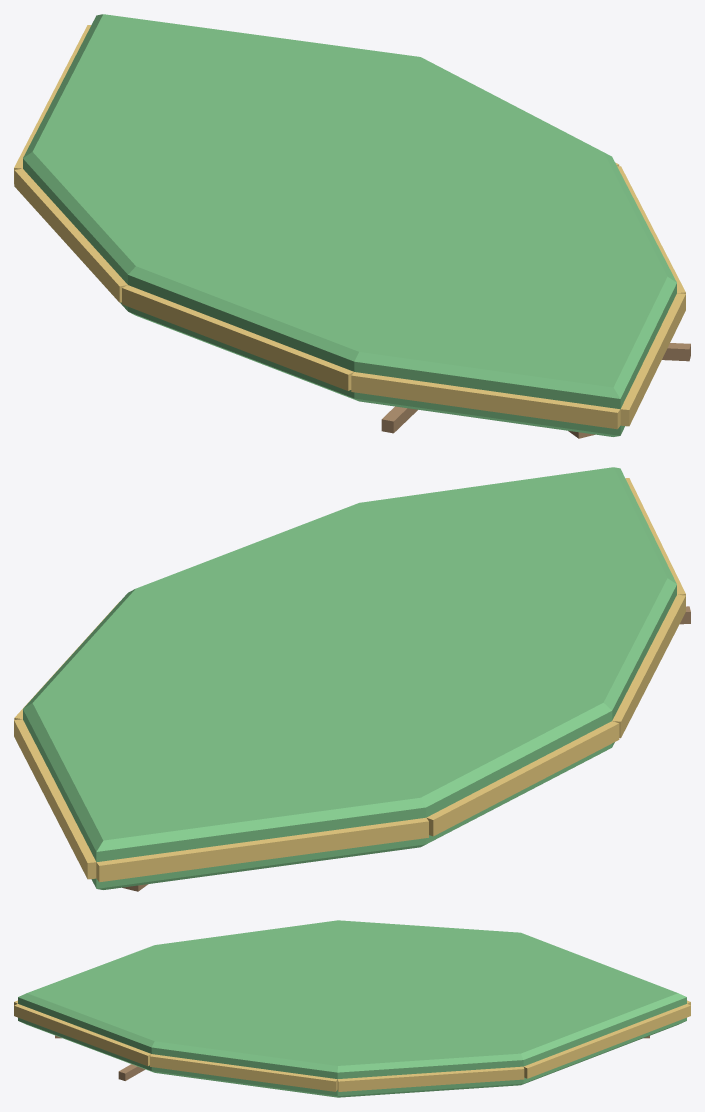
Rendered from verdantaegis.glb.
3 renders of one model, top to bottom at view 1: azimuth 30°, elevation 25°; view 2: azimuth 150°, elevation 25°; view 3: azimuth 270°, elevation 25°, orthographic. The views are drawn at different scales.
Parts seen in each view (by area): view 1: verdantaegis; view 2: verdantaegis; view 3: verdantaegis.
Boxes of the visible parts, <box> form: verdantaegis: <box>14,14,690,438</box>; verdantaegis: <box>14,467,690,891</box>; verdantaegis: <box>14,920,690,1097</box>.
Size of the model in its own units: 0.4954 by 0.061 by 0.9104.
